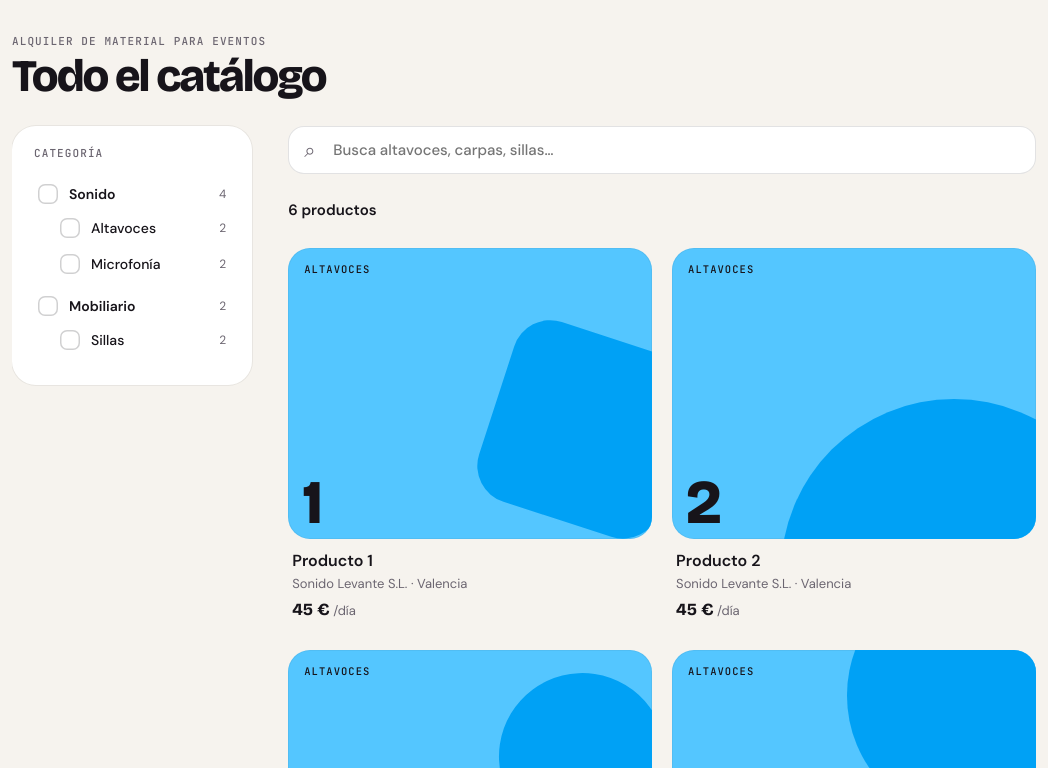
it: Catalog · filtre per categories › marcar una categoria pare filtra per totes les seves subcategories
This screenshot has width=1048, height=768.
Step 1. Click the checkbox labelled "Sonido 4" → x=132, y=194, box [34,177,230,211]
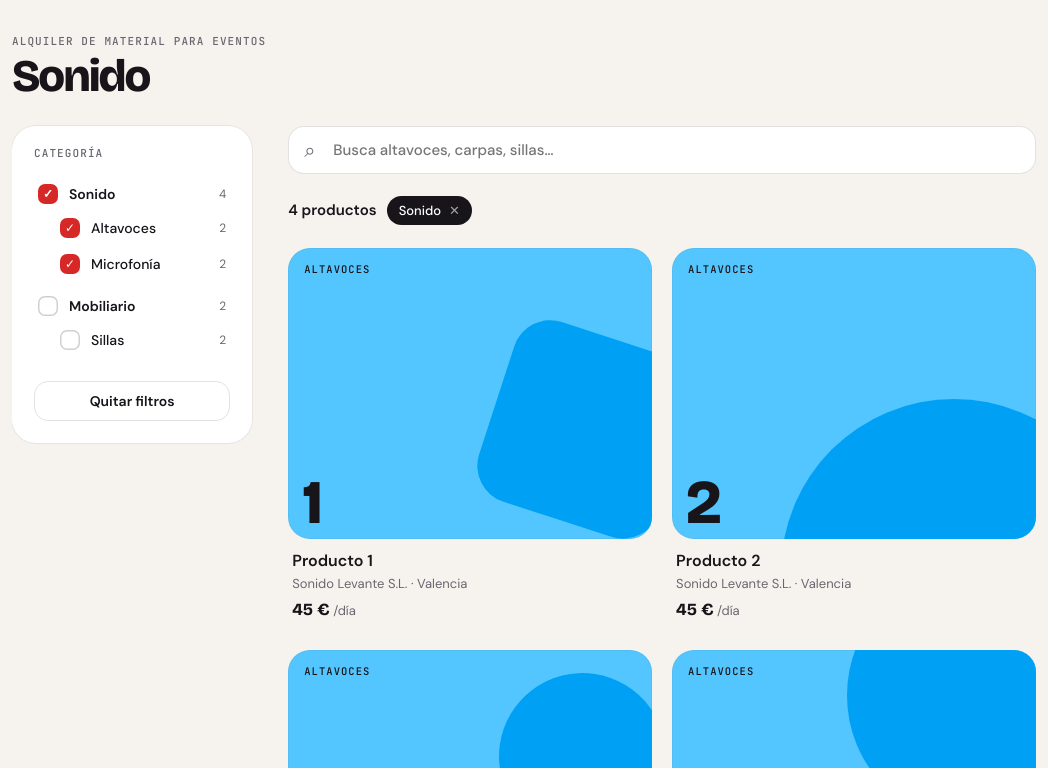
Expected: the text "4 productos" is shown, [288,203,377,218]
Expected: the heading "Sonido" is shown, [12,49,149,103]
Expected: the button with aria-label "Quitar filtro Sonido" is shown, [387,196,472,225]
